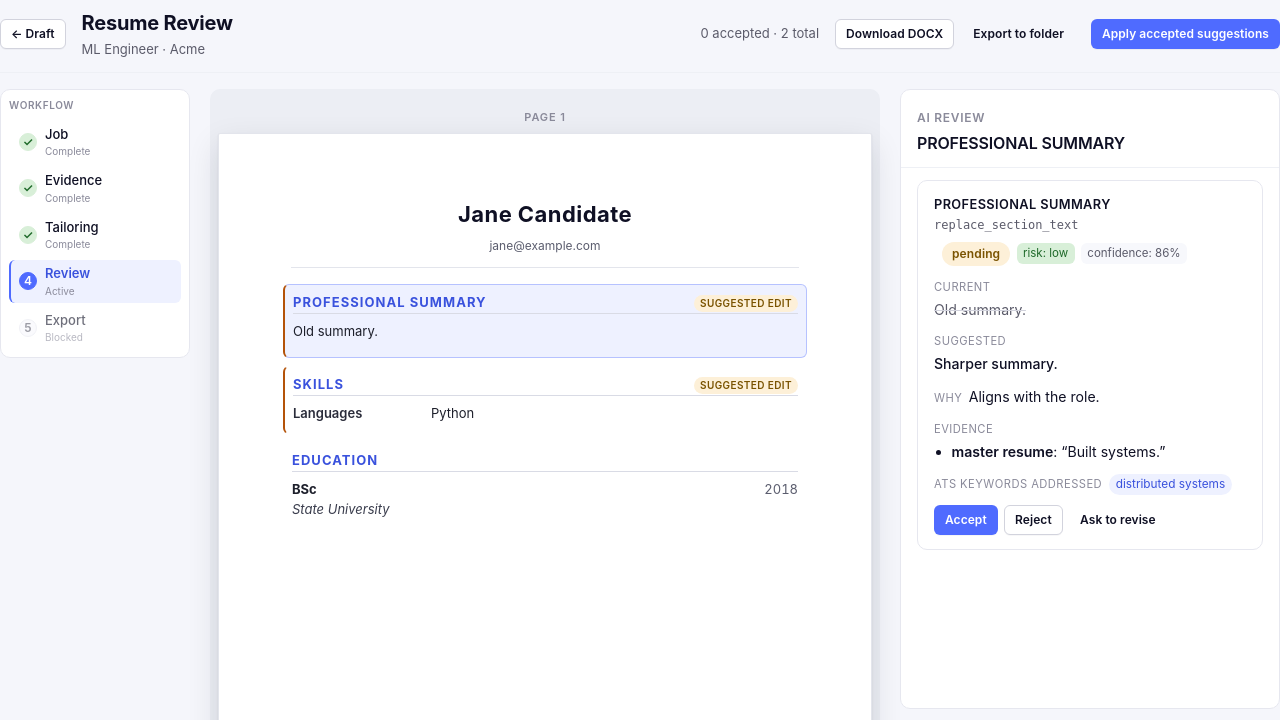
ResumeReviewPage workspace (task 114) › applies accepted suggestions and reports the result
Click the button with test id "apply-suggestions" at (1186, 34), box 1091,19 -> 1279,49
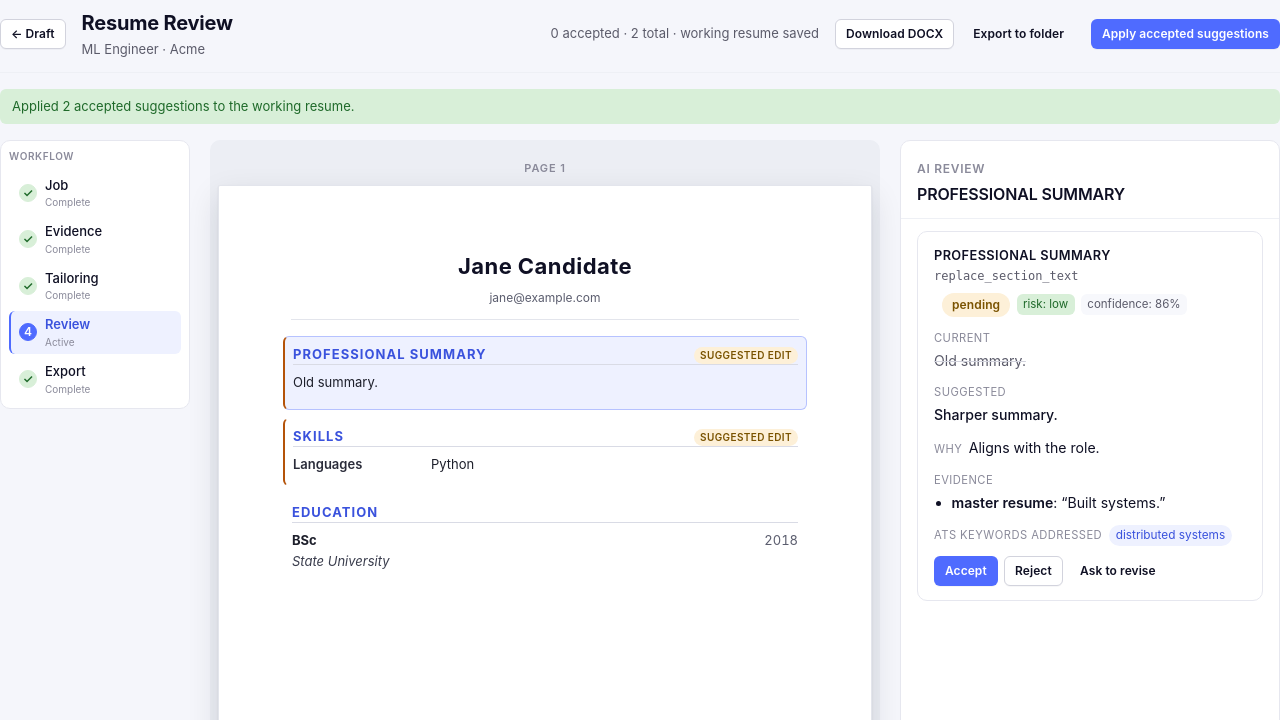
Expected: the message with test id "apply-message" shows "Applied 2 accepted suggestions", 12,98 -> 354,114
